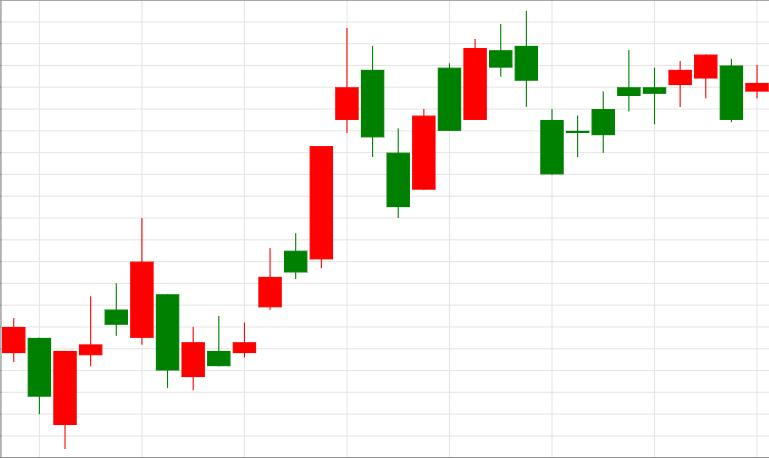shooting_star_fall: (233, 28, 359, 357)
